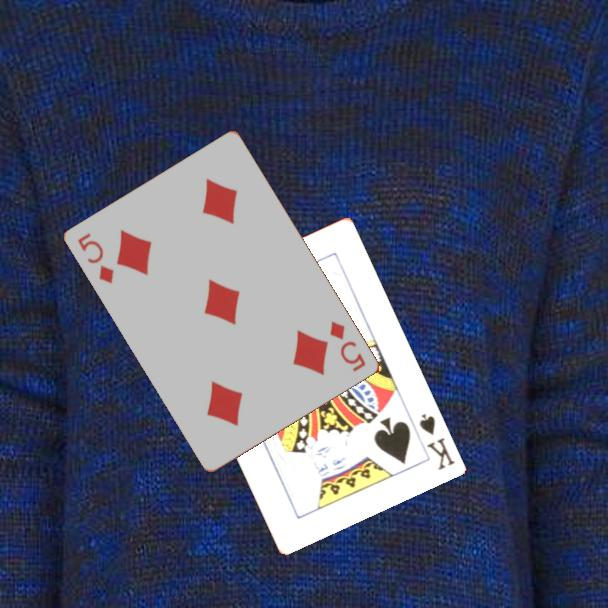d05: (74, 229, 117, 287), (327, 318, 369, 375)
s13: (415, 410, 458, 473)
